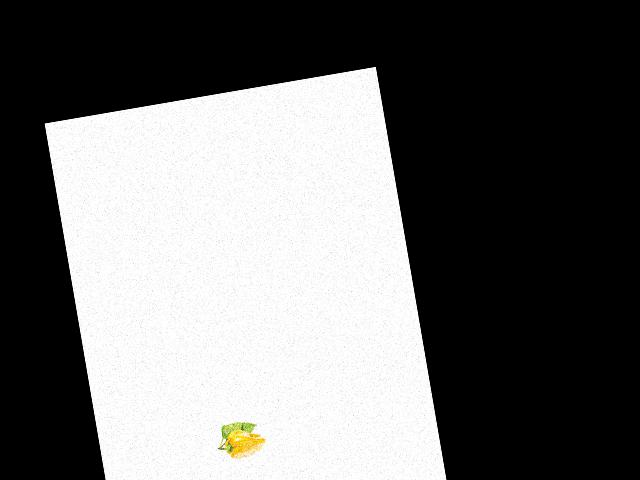bell_pepper: (214, 424, 269, 464)
